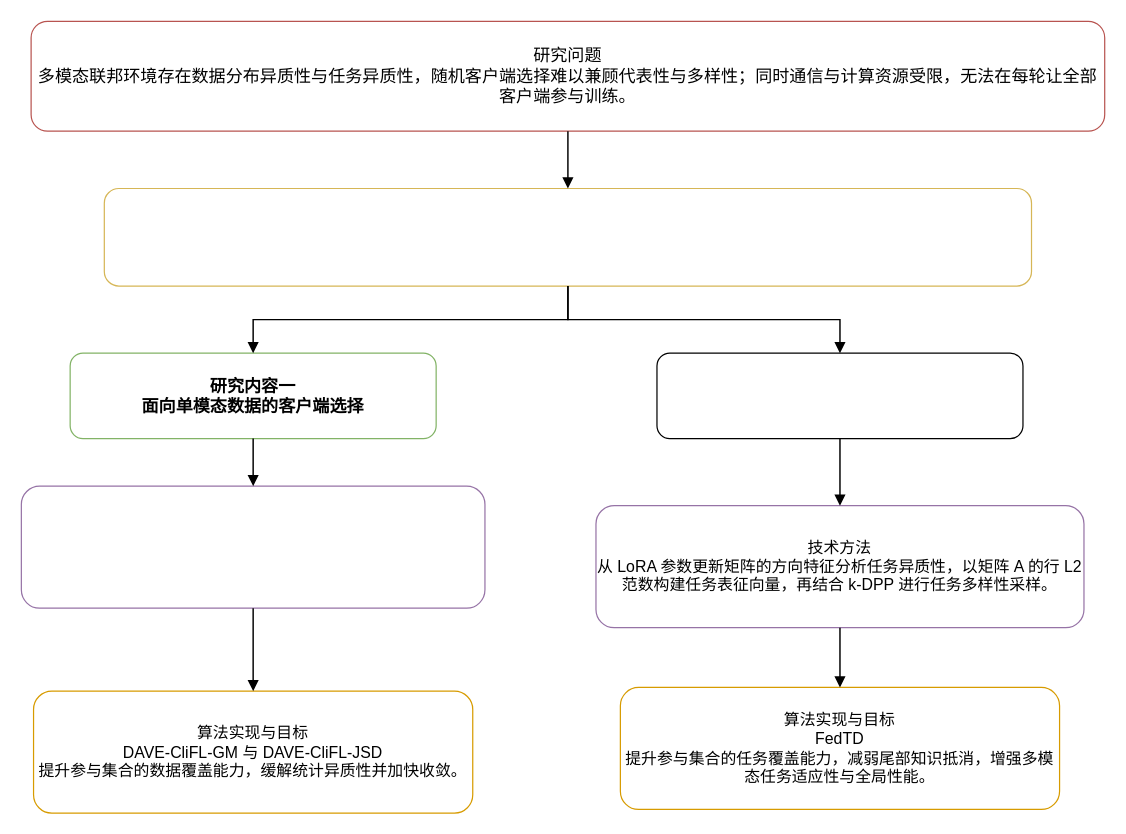
This 1126x834 diagram has some shape labels left out. Each missing label, with the centre of its shape:
"技术方法 利用客户端本地数据表征刻画数据分布特征，构建客户端相似性核矩阵，并结合 k-DPP 进行多样性驱动采样。" belongs at [252,546].
"研究内容二 面向多模态数据的客户端选择" belongs at [839,395].
"统一研究框架 以联邦学习为协同训练范式，以多模态大模型为任务载体，以 LoRA 为参数高效微调方式，在隐私保护约束下研究客户端选择机制。" belongs at [567,236].
